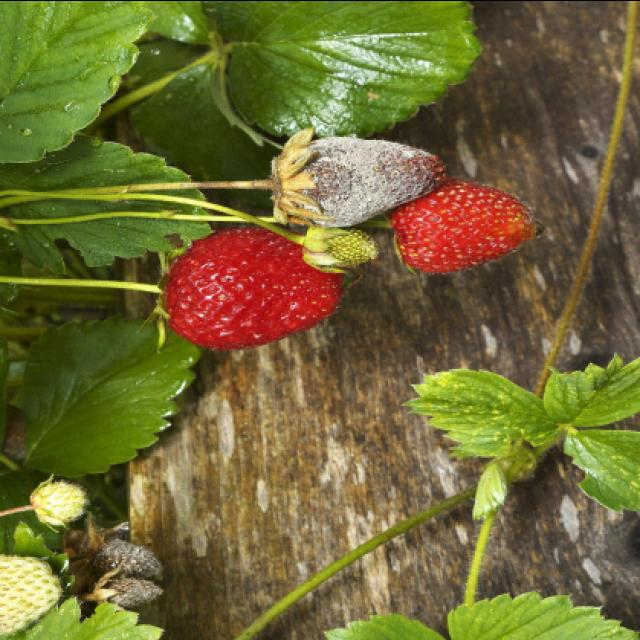Gray Mold: (269, 125, 451, 227), (92, 520, 164, 582), (92, 566, 165, 611)
